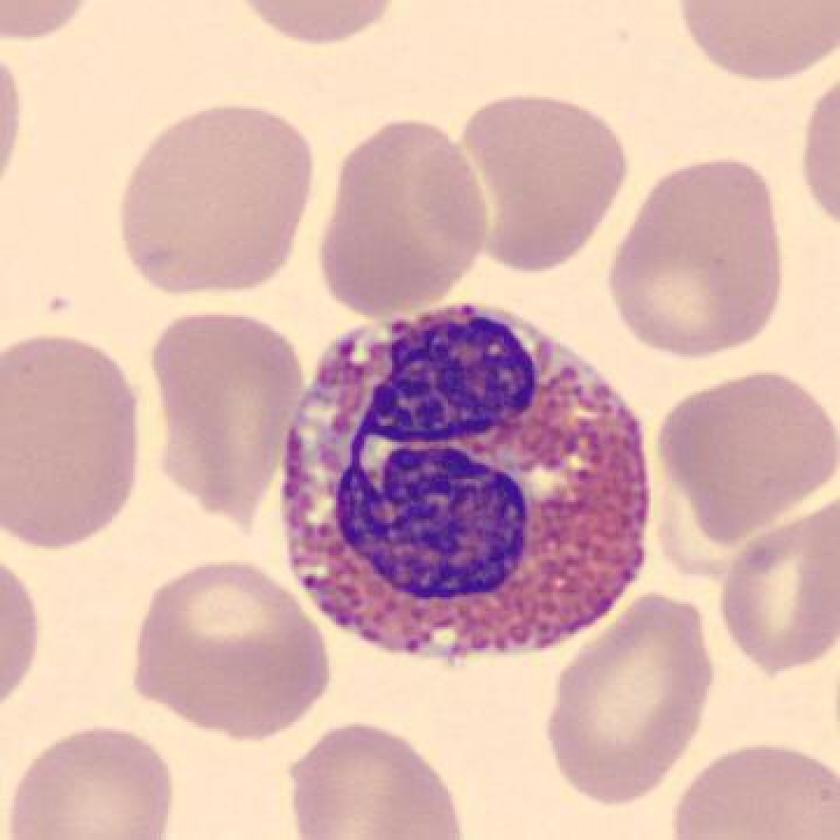eosinophil: (270, 293, 662, 677)
